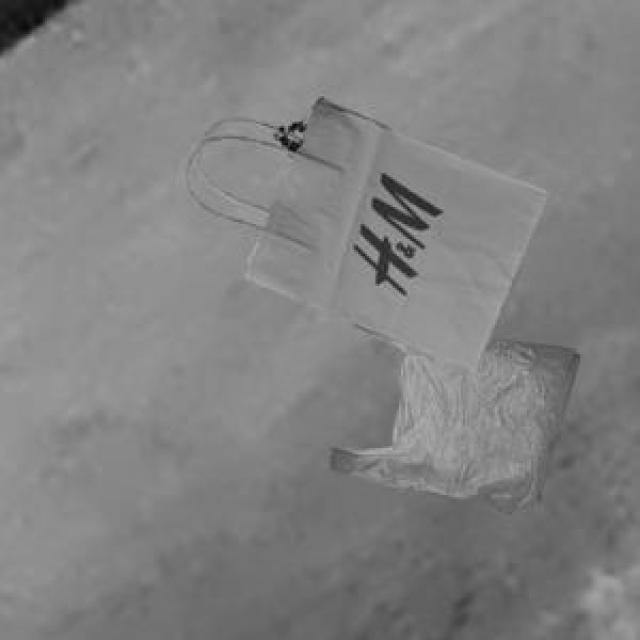paper: (223, 94, 546, 367)
